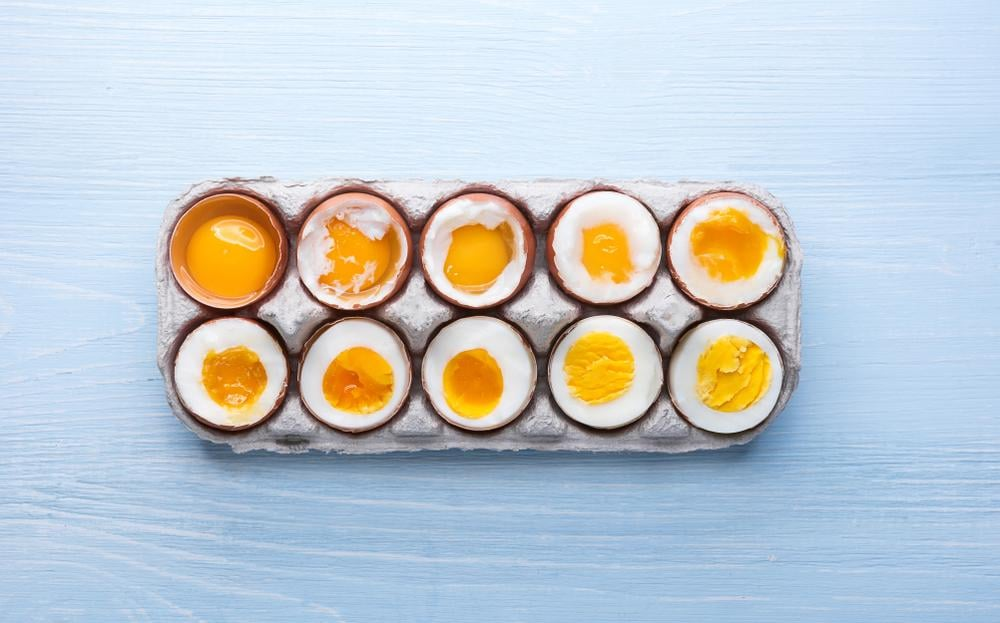telur: (680, 205, 770, 299), (309, 328, 398, 420), (436, 333, 521, 428), (183, 215, 270, 298), (564, 210, 646, 297), (570, 329, 647, 421), (190, 330, 269, 418), (319, 213, 397, 293), (443, 210, 514, 294)
